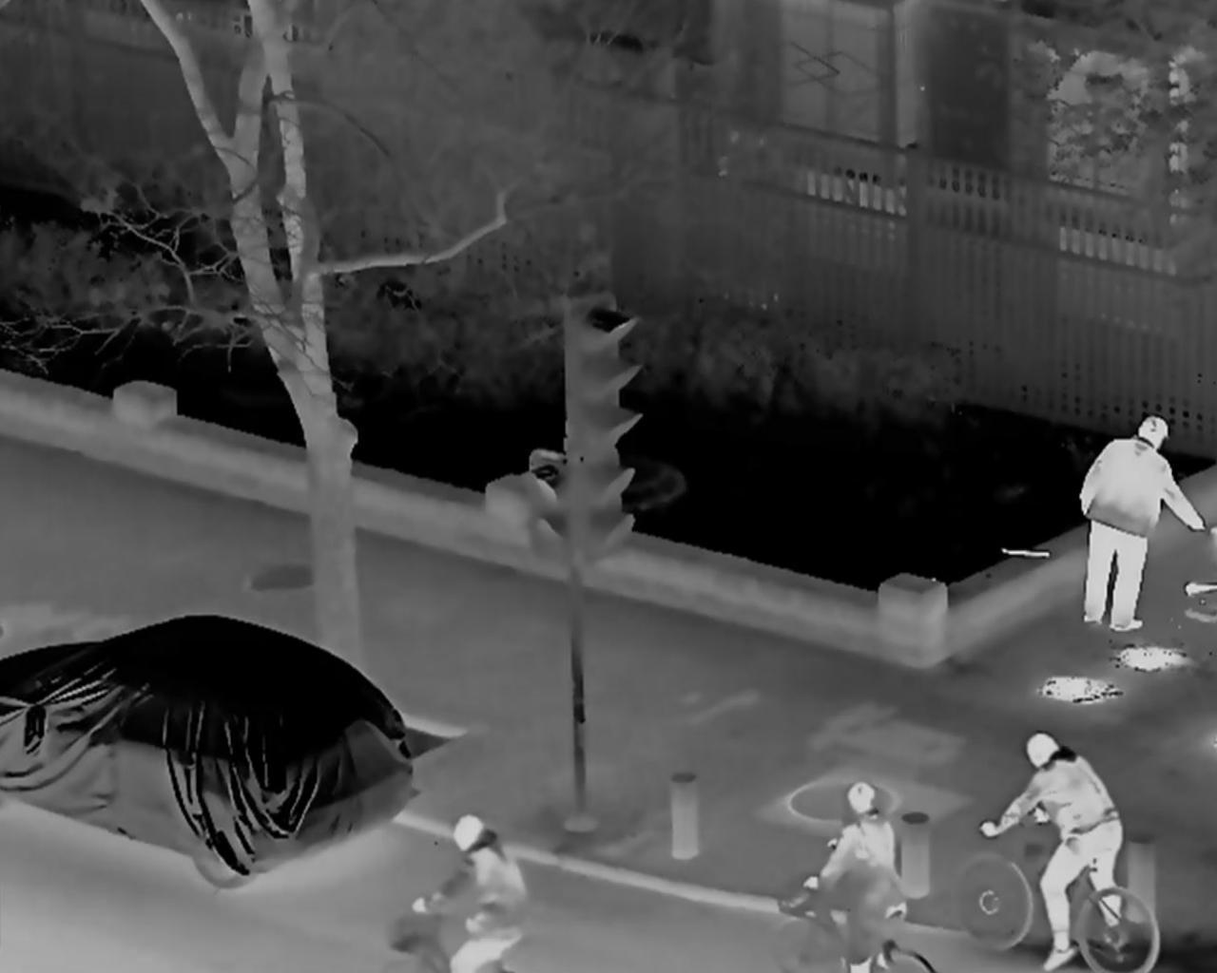person: (986, 733, 1130, 970), (1076, 415, 1204, 631), (804, 776, 906, 973), (414, 820, 530, 973)
